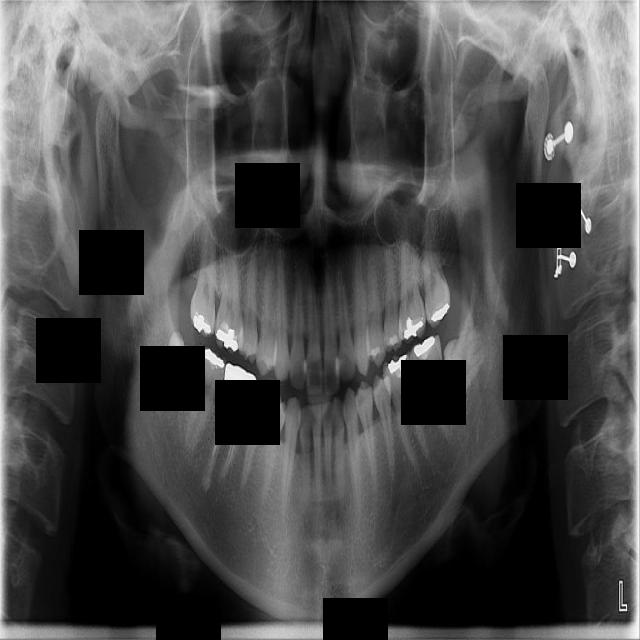52: (402, 330, 454, 379), (186, 344, 234, 390), (217, 362, 262, 406), (383, 351, 415, 399), (214, 305, 245, 354), (190, 290, 216, 338), (399, 301, 426, 344), (425, 284, 452, 327), (250, 381, 271, 418), (289, 349, 307, 390), (325, 350, 340, 394)
73: (204, 380, 254, 482), (622, 620, 626, 626)
BioHorizons Implant: (416, 204, 454, 328)
Biomet 3i Implant: (424, 319, 498, 413)
Blue Sky Bio Implant: (408, 335, 454, 444)
Caries: (190, 202, 220, 336)
Implant: (183, 346, 229, 454)
Keystone Dental Implant: (149, 329, 203, 421)
